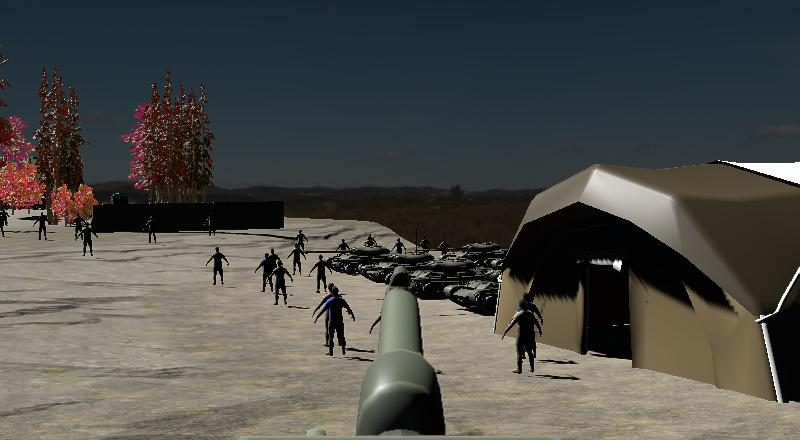Human: (501, 294, 545, 376), (205, 244, 231, 287)
Tank: (353, 248, 484, 298), (306, 241, 404, 277)
